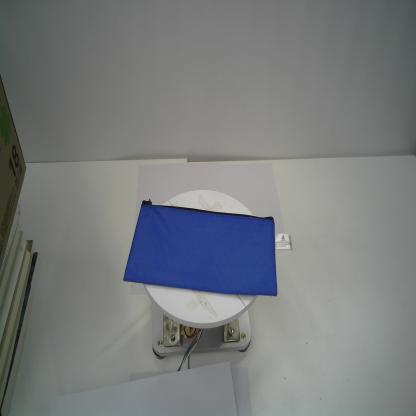Stationery: (123, 199, 277, 297)
